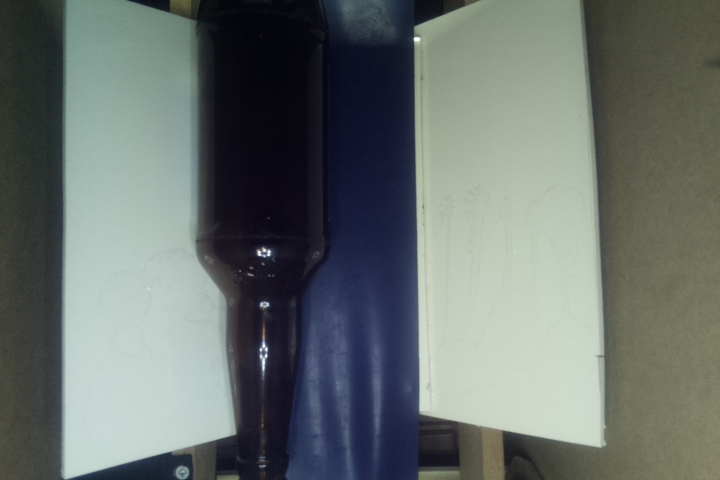makju: (195, 1, 332, 476)
